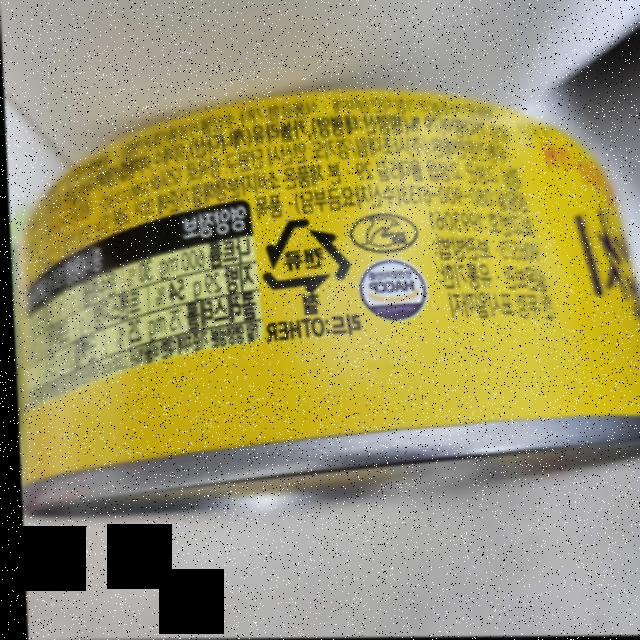Can: (254, 216, 350, 294)
